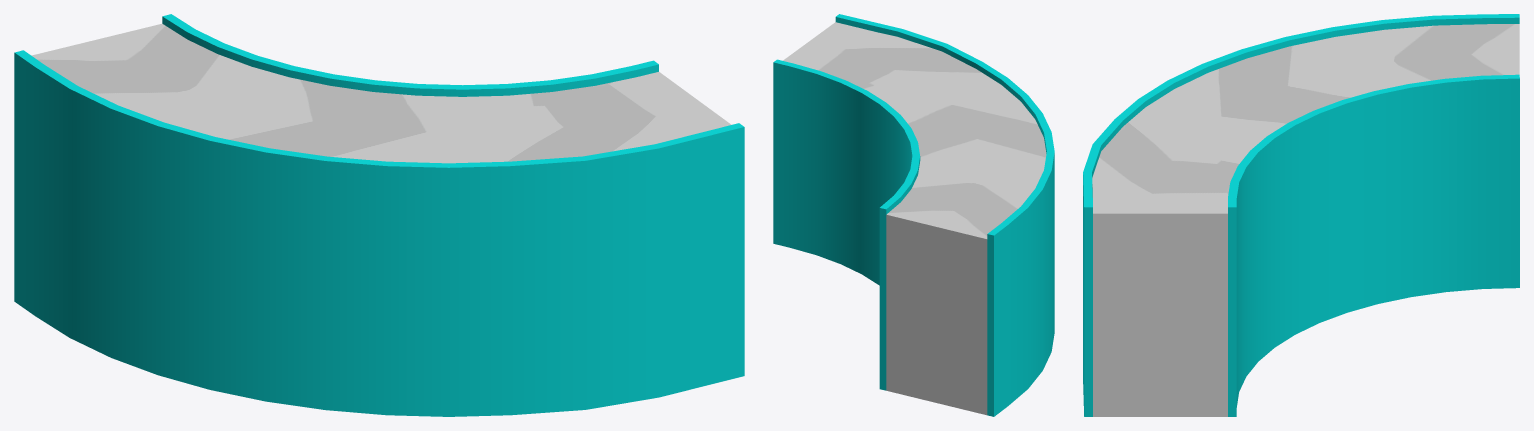
File: LeftRightCurve.fbx
The picture shows the model from 3 angles, left to right: view 1: azimuth 30°, elevation 25°; view 2: azimuth 150°, elevation 25°; view 3: azimuth 270°, elevation 25°; orthographic projection. The views are drawn at different scales.
Parts seen in each view (by area): view 1: pCube64; view 2: pCube64; view 3: pCube64.
Boxes of the visible parts, x1=… form: pCube64: x1=14, y1=14, x2=744, y2=416; pCube64: x1=773, y1=14, x2=1054, y2=416; pCube64: x1=1083, y1=14, x2=1519, y2=416.
Bounding box in the file's own units: 102 × 51.5 × 97.3.
Materials: 3 (1 with a texture image).
